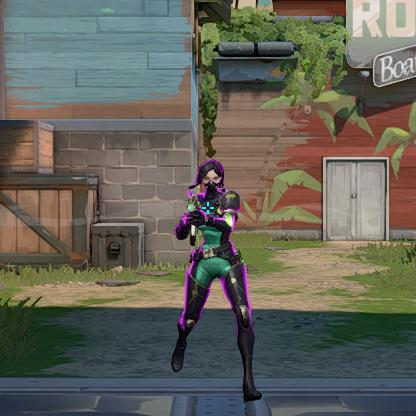enemyBody: (200, 199, 227, 243)
enemyHead: (202, 168, 219, 188)
